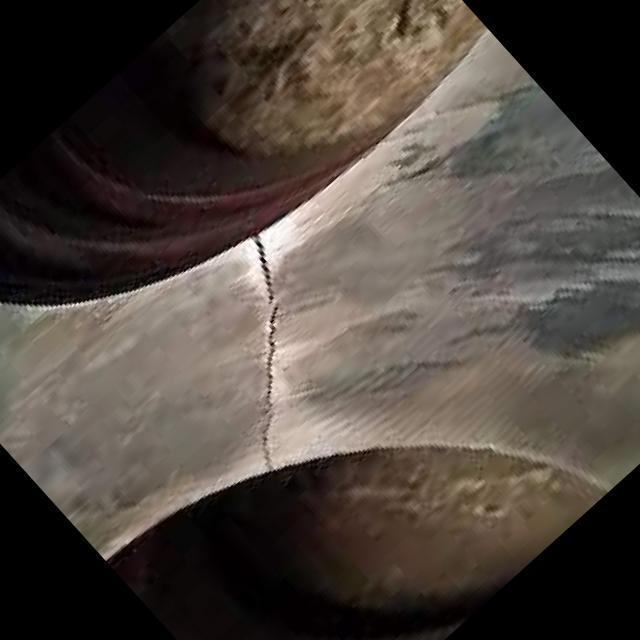defect: (248, 226, 284, 473)
